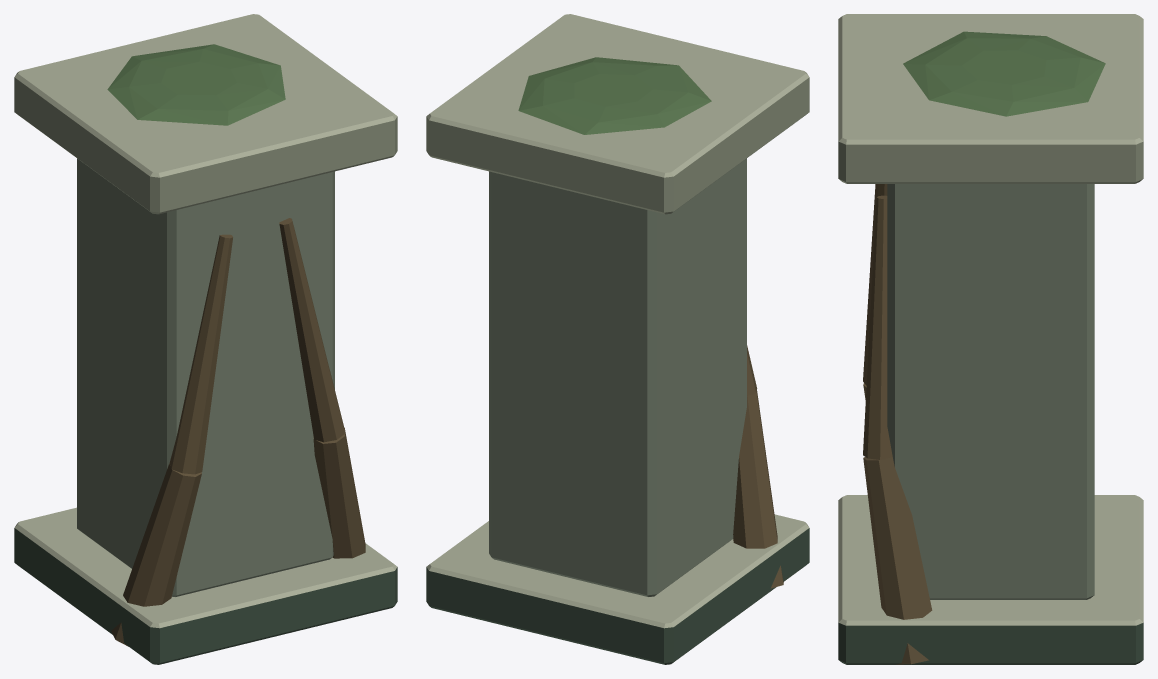
Rendered from pillar-large.glb.
The picture shows the model from 3 angles, left to right: view 1: azimuth 30°, elevation 25°; view 2: azimuth 150°, elevation 25°; view 3: azimuth 270°, elevation 25°; orthographic projection. The views are drawn at different scales.
Parts seen in each view (by area): view 1: pillar-large__body; view 2: pillar-large__body; view 3: pillar-large__body.
Boxes of the visible parts, <box> form: pillar-large__body: <box>14,14,397,664</box>; pillar-large__body: <box>426,14,809,664</box>; pillar-large__body: <box>838,14,1143,664</box>.
Size of the model in its own units: 1.04 by 1.96 by 1.
